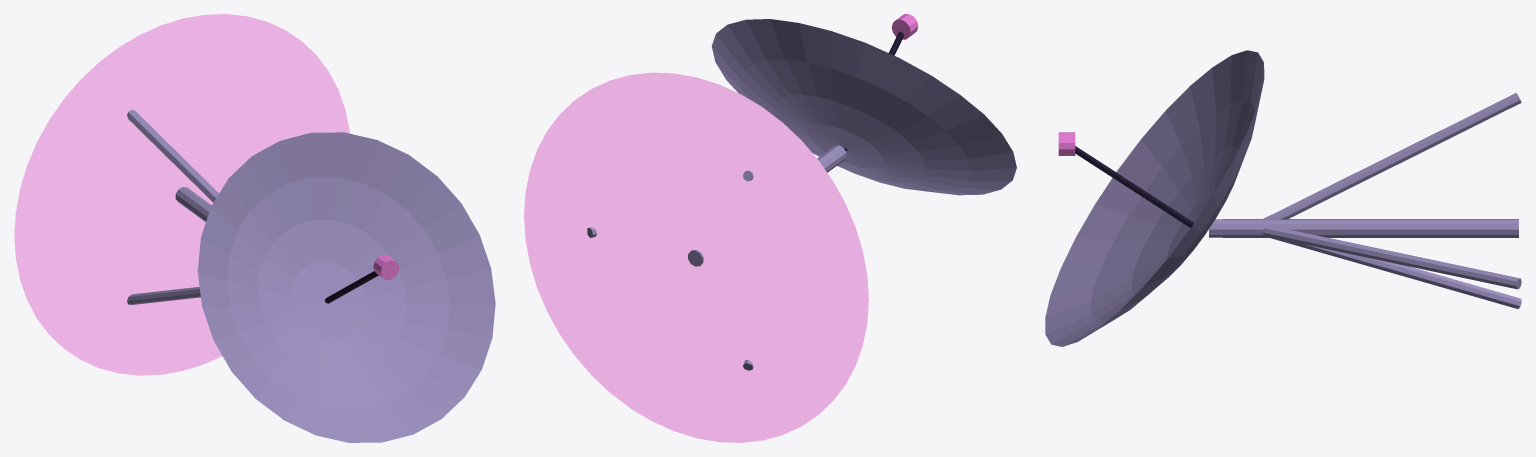
File: antenne.glb
3 renders of one model, left to right at view 1: azimuth 30°, elevation 25°; view 2: azimuth 150°, elevation 25°; view 3: azimuth 270°, elevation 25°, orthographic. The views are drawn at different scales.
Parts seen in each view (by area): view 1: parabole, lueur, pied1, pied2, mat, source; view 2: lueur, parabole, mat, source; view 3: parabole, mat, pied1, pied0, pied2, bras.
Boxes of the visible parts, x1=… form: parabole: x1=197, y1=132, x2=495, y2=442; lueur: x1=14, y1=14, x2=349, y2=375; pied1: x1=127, y1=109, x2=218, y2=202; pied2: x1=127, y1=287, x2=200, y2=304; mat: x1=175, y1=187, x2=211, y2=221; source: x1=373, y1=255, x2=399, y2=279; lueur: x1=524, y1=72, x2=868, y2=442; parabole: x1=711, y1=19, x2=1016, y2=195; mat: x1=688, y1=145, x2=846, y2=266; source: x1=891, y1=14, x2=918, y2=39; parabole: x1=1045, y1=50, x2=1264, y2=346; mat: x1=1209, y1=219, x2=1518, y2=237; pied1: x1=1262, y1=93, x2=1521, y2=220; pied0: x1=1261, y1=226, x2=1521, y2=289; pied2: x1=1270, y1=238, x2=1521, y2=308; bras: x1=1075, y1=146, x2=1193, y2=227.
Size of the model in its own units: 3.6 by 3.6 by 4.
